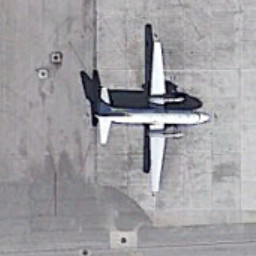Airplane: (78, 28, 231, 214)
